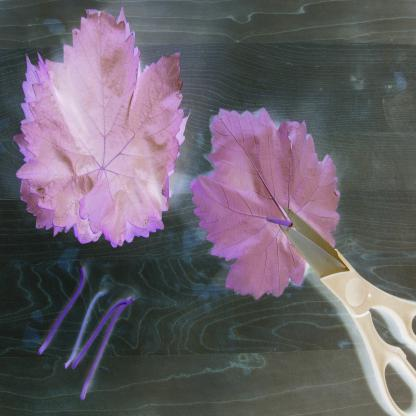grape leaf: (22, 7, 193, 252), (189, 97, 340, 279)
